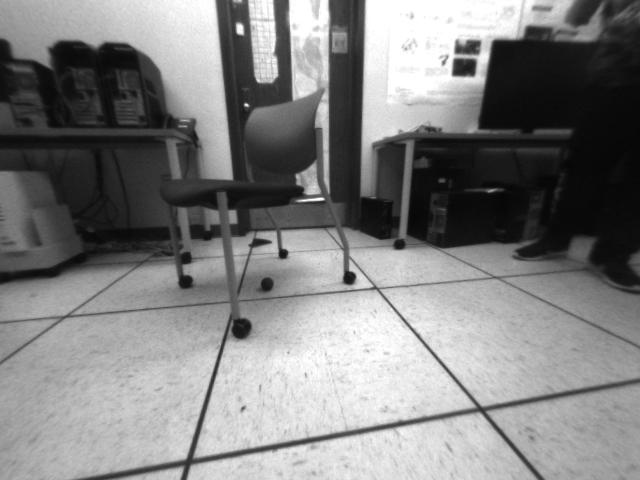dogtoy: (256, 271, 278, 293)
